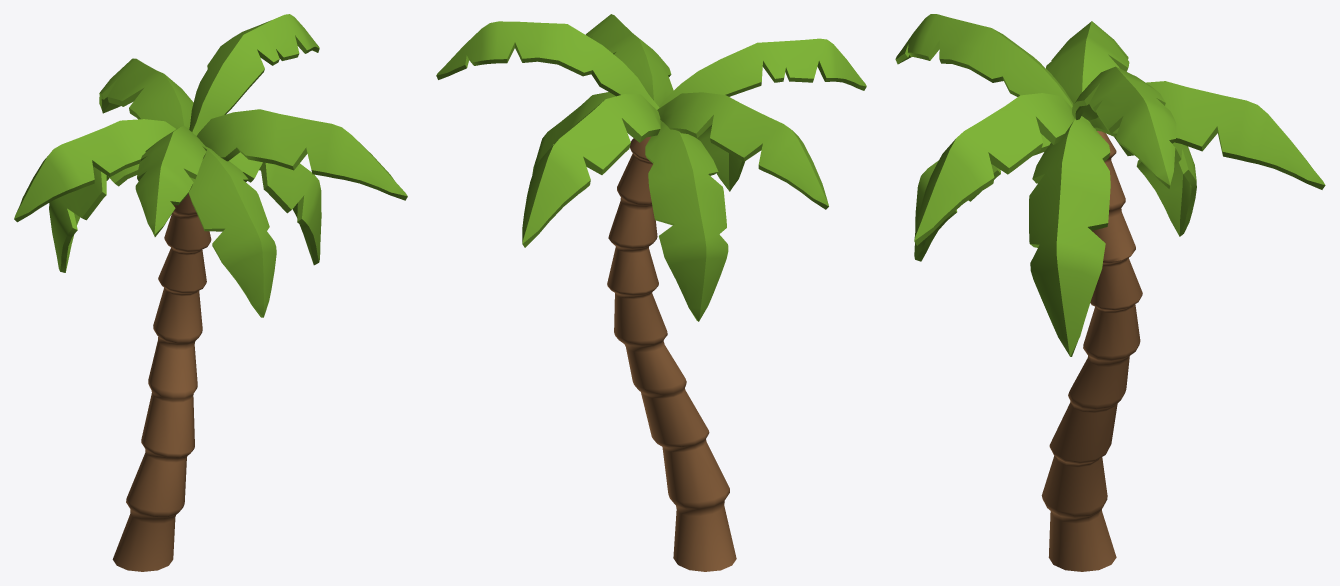
Rendered from palm2.glb.
3 views of the same model, side by side, from view 1: azimuth 30°, elevation 25°; view 2: azimuth 150°, elevation 25°; view 3: azimuth 270°, elevation 25° (orthographic). The views are drawn at different scales.
Visible parts, largest first — view 1: Environment_PalmTree_1; view 2: Environment_PalmTree_1; view 3: Environment_PalmTree_1.
Part boxes in pixels (bbox=[...]): Environment_PalmTree_1: bbox=[14, 14, 407, 571]; Environment_PalmTree_1: bbox=[436, 14, 866, 571]; Environment_PalmTree_1: bbox=[895, 14, 1325, 571].
Size of the model in its own units: 2.61 by 3.59 by 2.52.
Materials: 1 (1 with a texture image).
